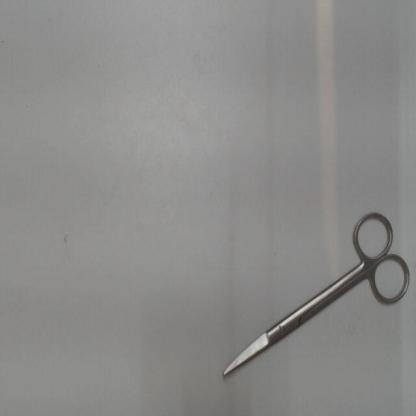Curved Mayo Scissors: (216, 203, 414, 386)
